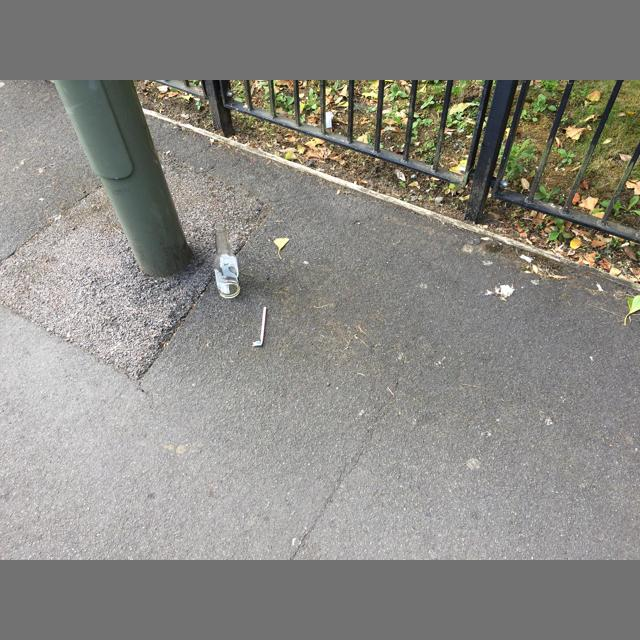litter: (214, 223, 240, 298), (253, 307, 266, 346), (326, 111, 333, 128)
